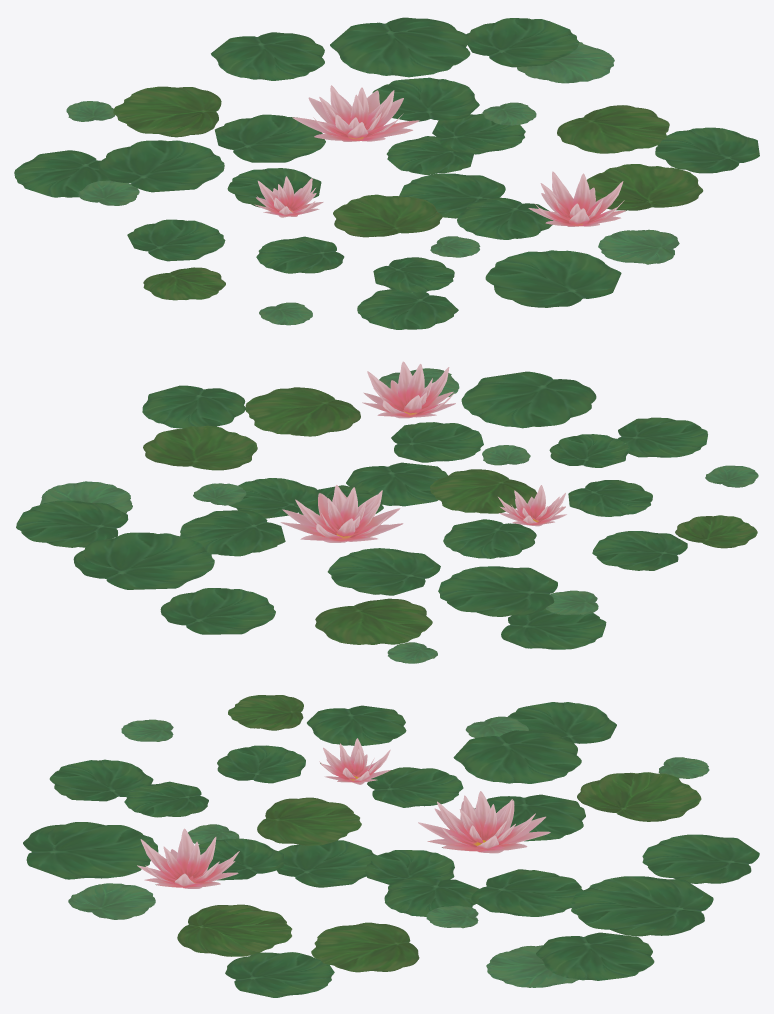
Rendered from SM_EastLands_WaterLily_04.fbx.
3 renders of one model, top to bottom at view 1: azimuth 30°, elevation 25°; view 2: azimuth 150°, elevation 25°; view 3: azimuth 270°, elevation 25°, orthographic. The views are drawn at different scales.
Visible parts, largest first — view 1: SM_EastLands_WaterLily_04_LOD0; view 2: SM_EastLands_WaterLily_04_LOD0; view 3: SM_EastLands_WaterLily_04_LOD0.
Part boxes in pixels (left/top/right/bottom): SM_EastLands_WaterLily_04_LOD0: left=14, top=17, right=759, bottom=329; SM_EastLands_WaterLily_04_LOD0: left=16, top=361, right=758, bottom=663; SM_EastLands_WaterLily_04_LOD0: left=23, top=695, right=759, bottom=997.
Bounding box in the file's own units: 219 × 15.41 × 224.
